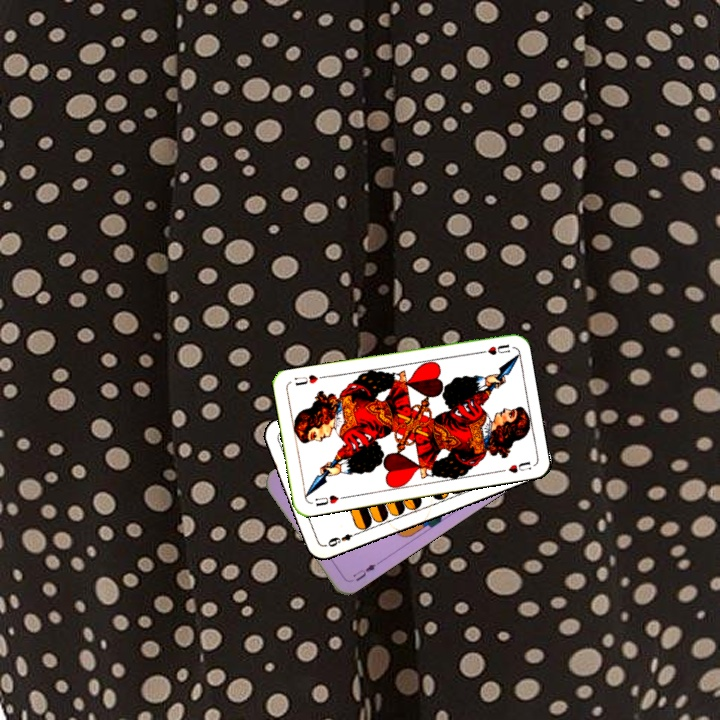E9: (324, 528, 361, 550)
EU: (349, 557, 382, 584)
HU: (473, 340, 513, 358), (311, 491, 348, 509)
